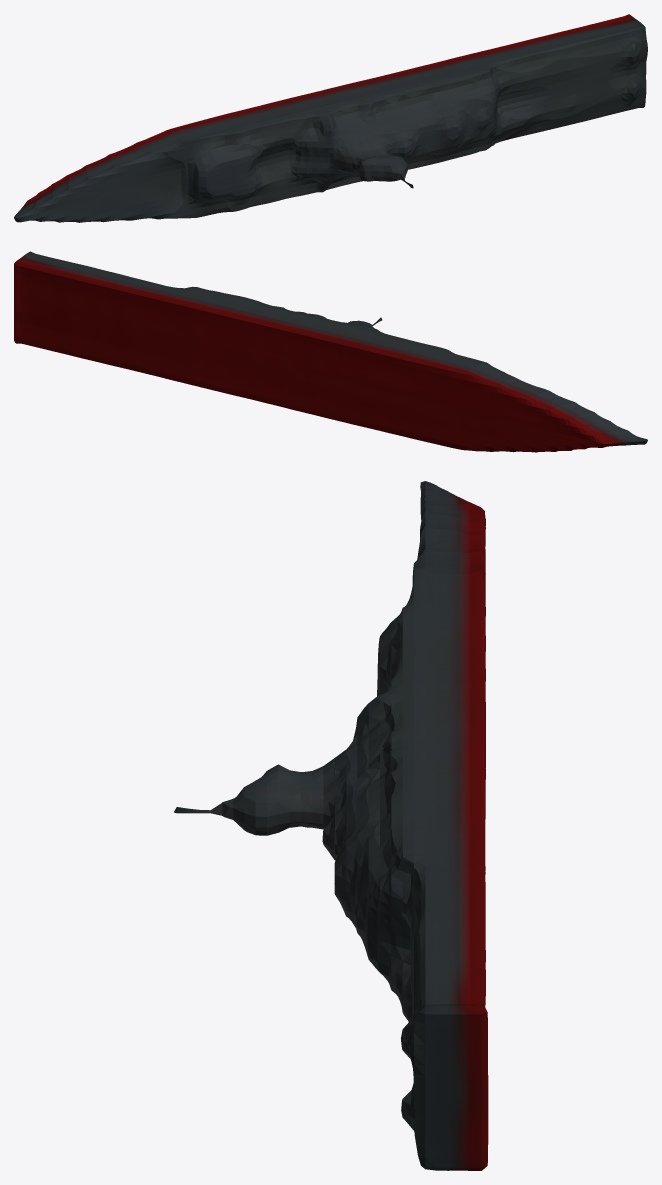
File: Battleship_1749675459.obj
3 renders of one model, top to bottom at view 1: azimuth 30°, elevation 25°; view 2: azimuth 150°, elevation 25°; view 3: azimuth 270°, elevation 25°, orthographic. The views are drawn at different scales.
Size of the model in its own units: 1.97 by 0.2502 by 0.4319.
